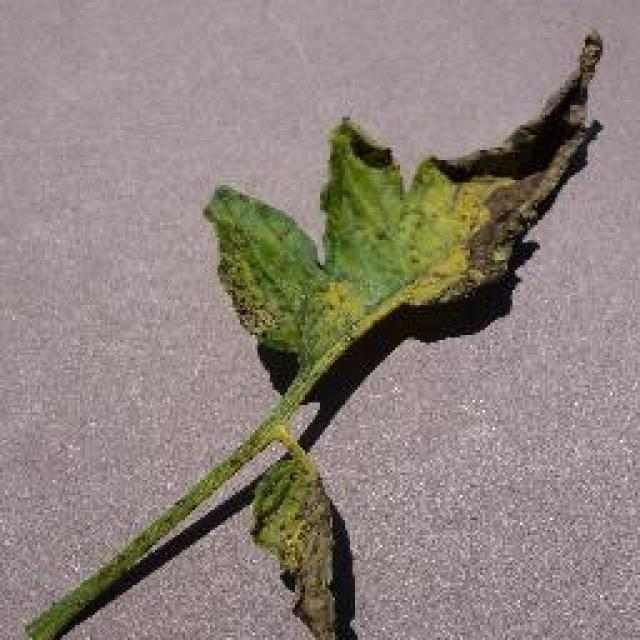Tomato target spot leaf: (198, 33, 612, 385), (256, 445, 354, 640)
